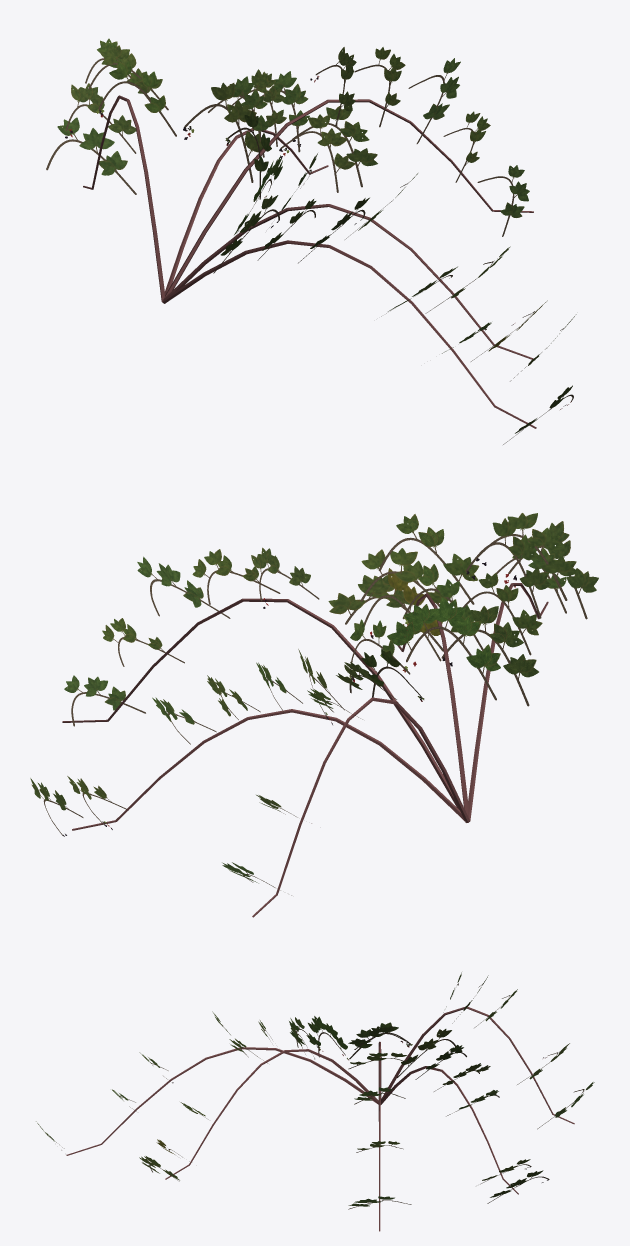
File: ostruzina_2.glb
3 renders of one model, top to bottom at view 1: azimuth 30°, elevation 25°; view 2: azimuth 150°, elevation 25°; view 3: azimuth 270°, elevation 25°, orthographic. The views are drawn at different scales.
Visible parts, largest first — view 1: ostruzina_2; view 2: ostruzina_2; view 3: ostruzina_2.
Part boxes in pixels (x1,y1,x2,y2): ostruzina_2: (46, 38, 576, 444); ostruzina_2: (30, 513, 598, 917); ostruzina_2: (36, 972, 594, 1231).
Bounding box in the file's own units: 2.35 × 1.27 × 4.34.
2 materials, 1 textured.
